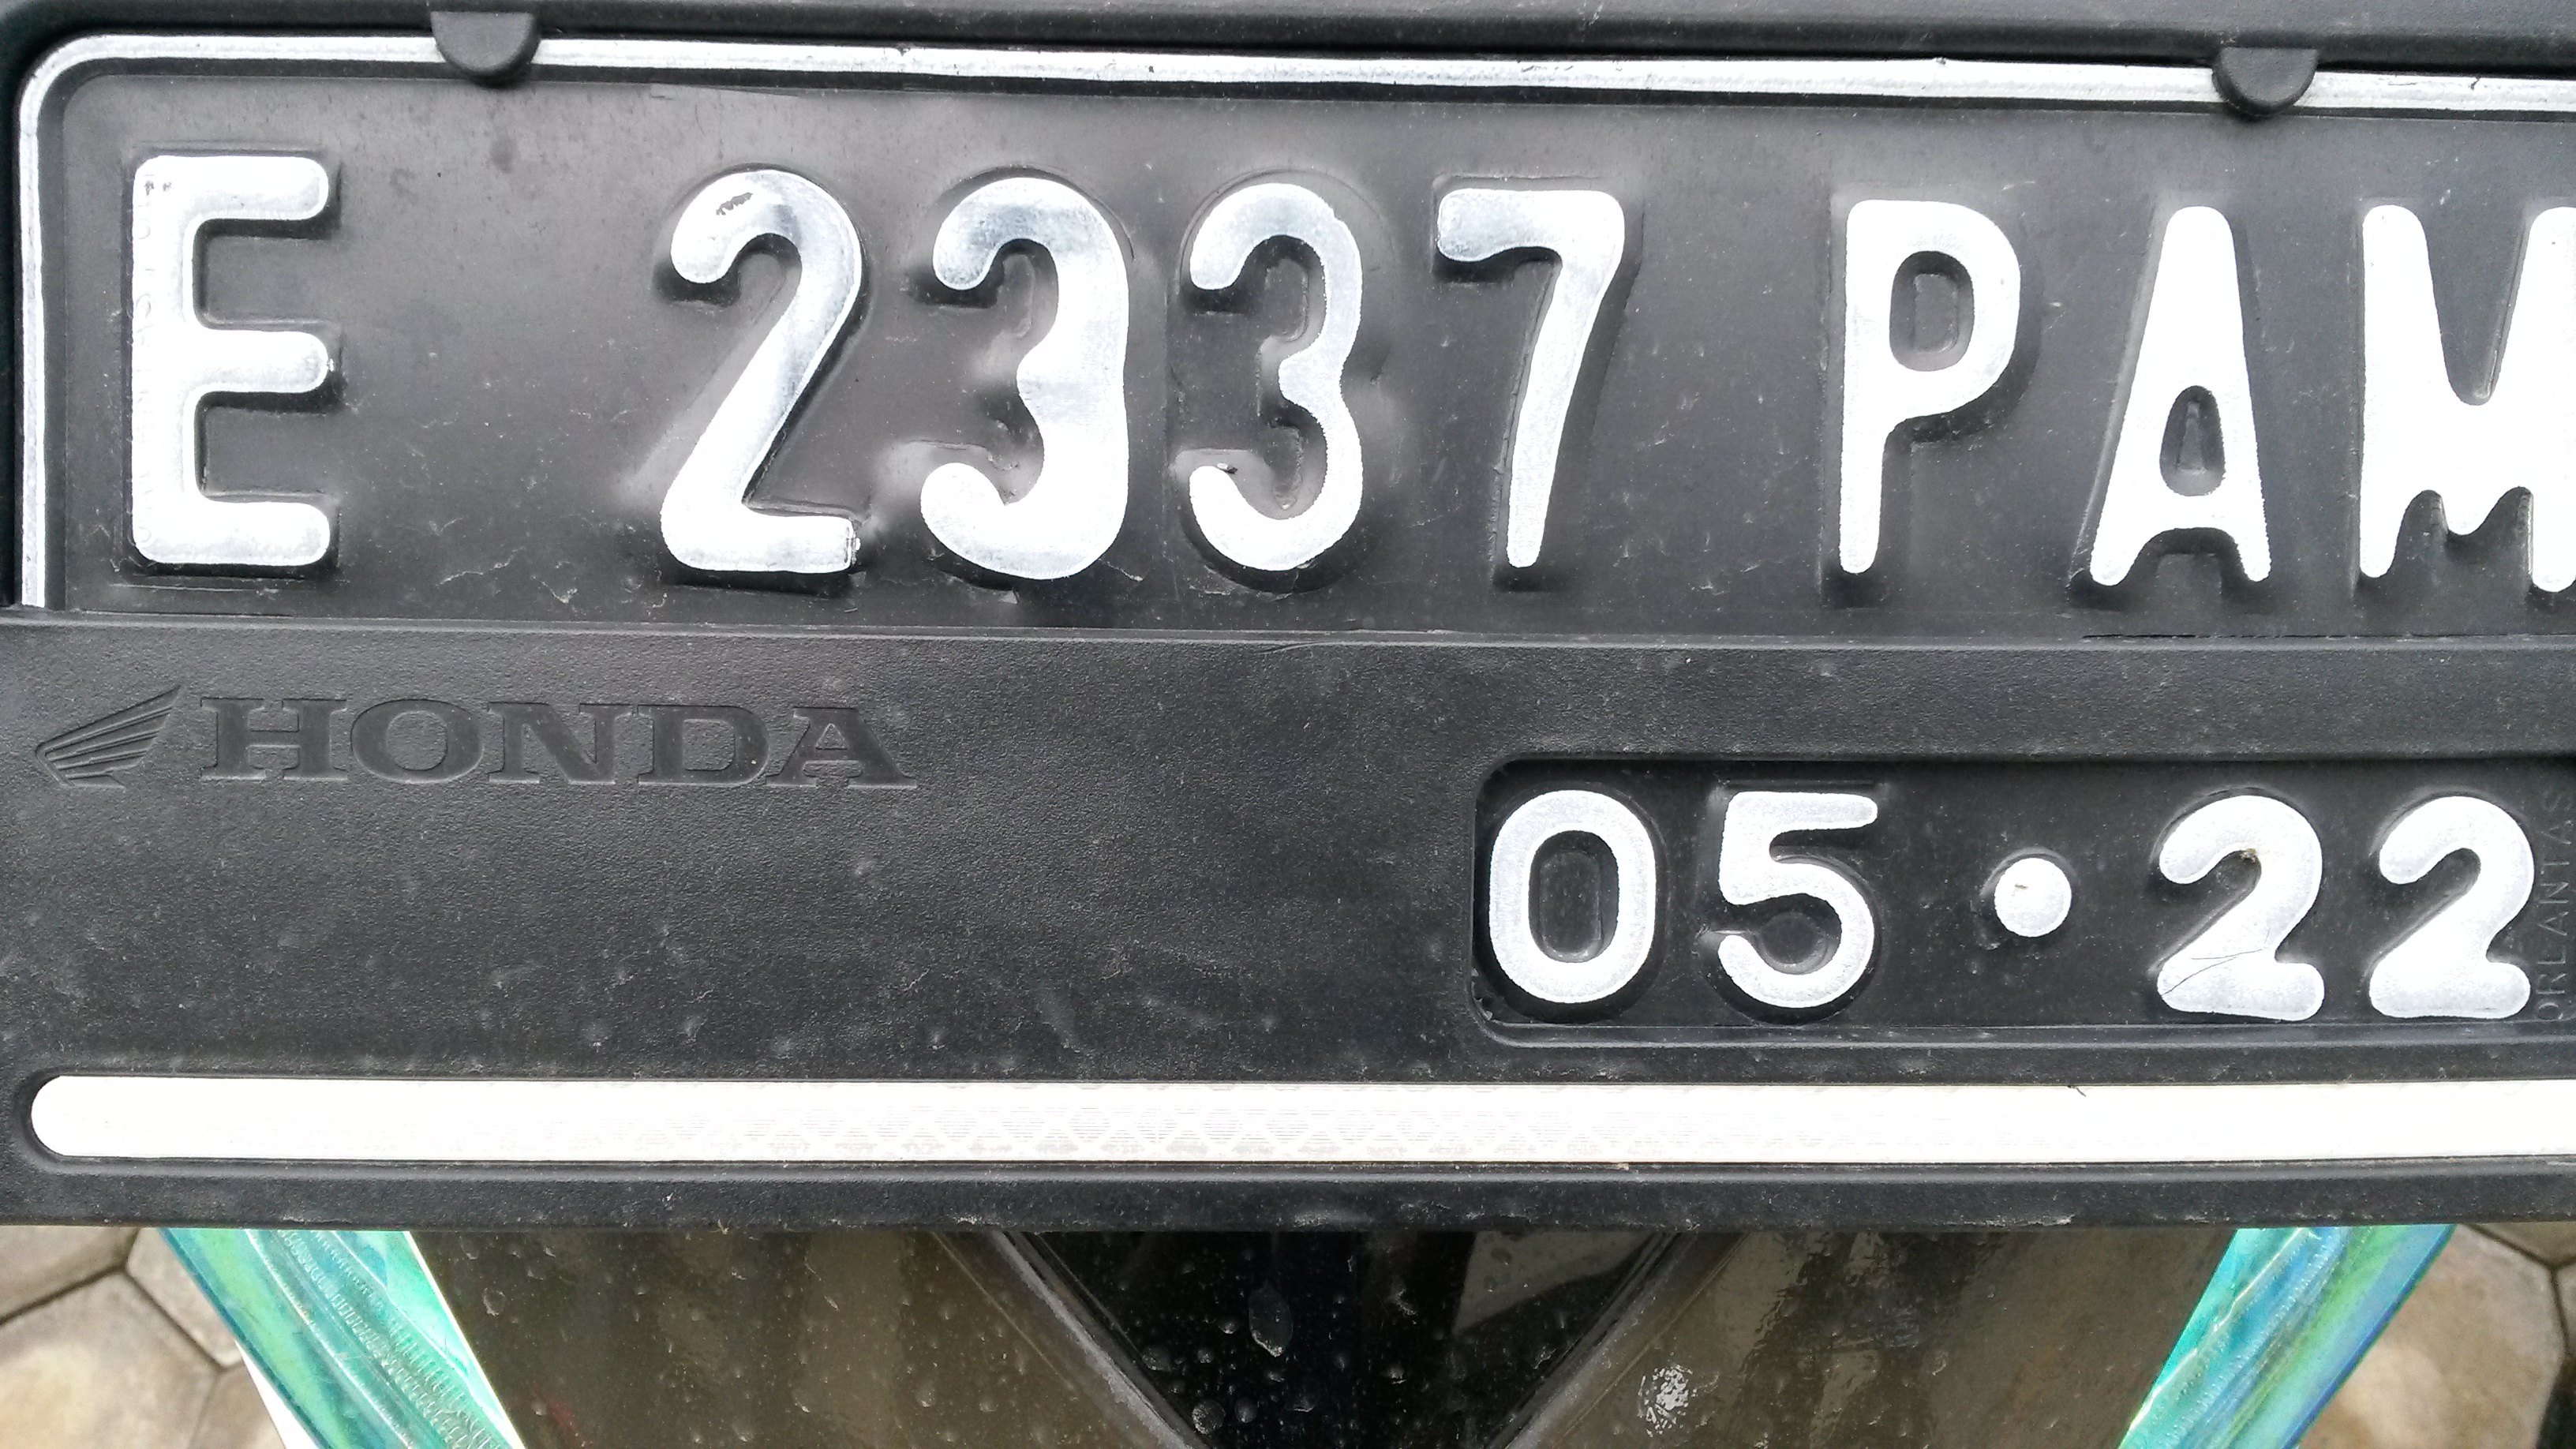plate: (9, 30, 2576, 1045)
